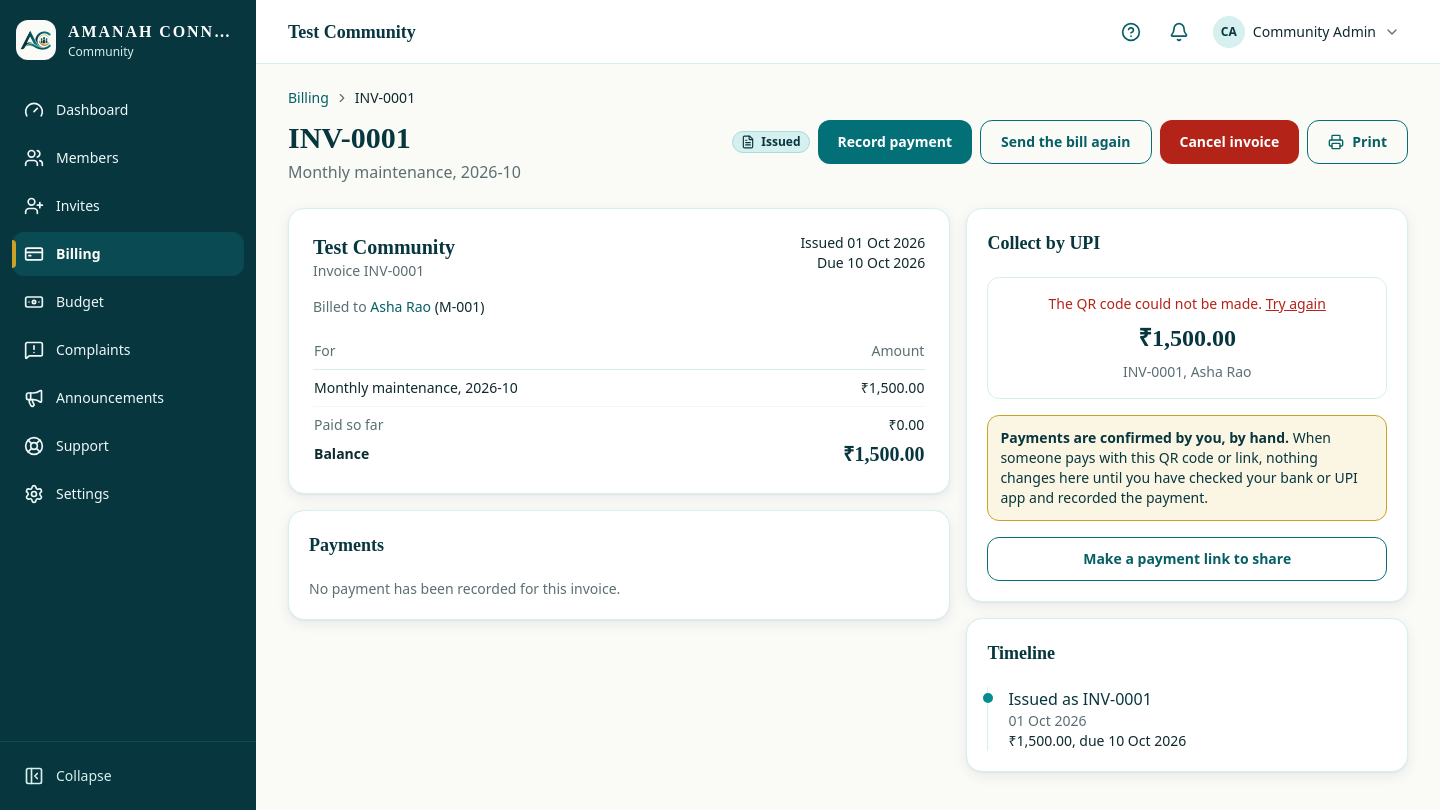
Test case: record payment › prefills the amount with the balance
The image size is (1440, 810).
Click the button "Record payment" at (895,142), box [818, 120, 972, 164]
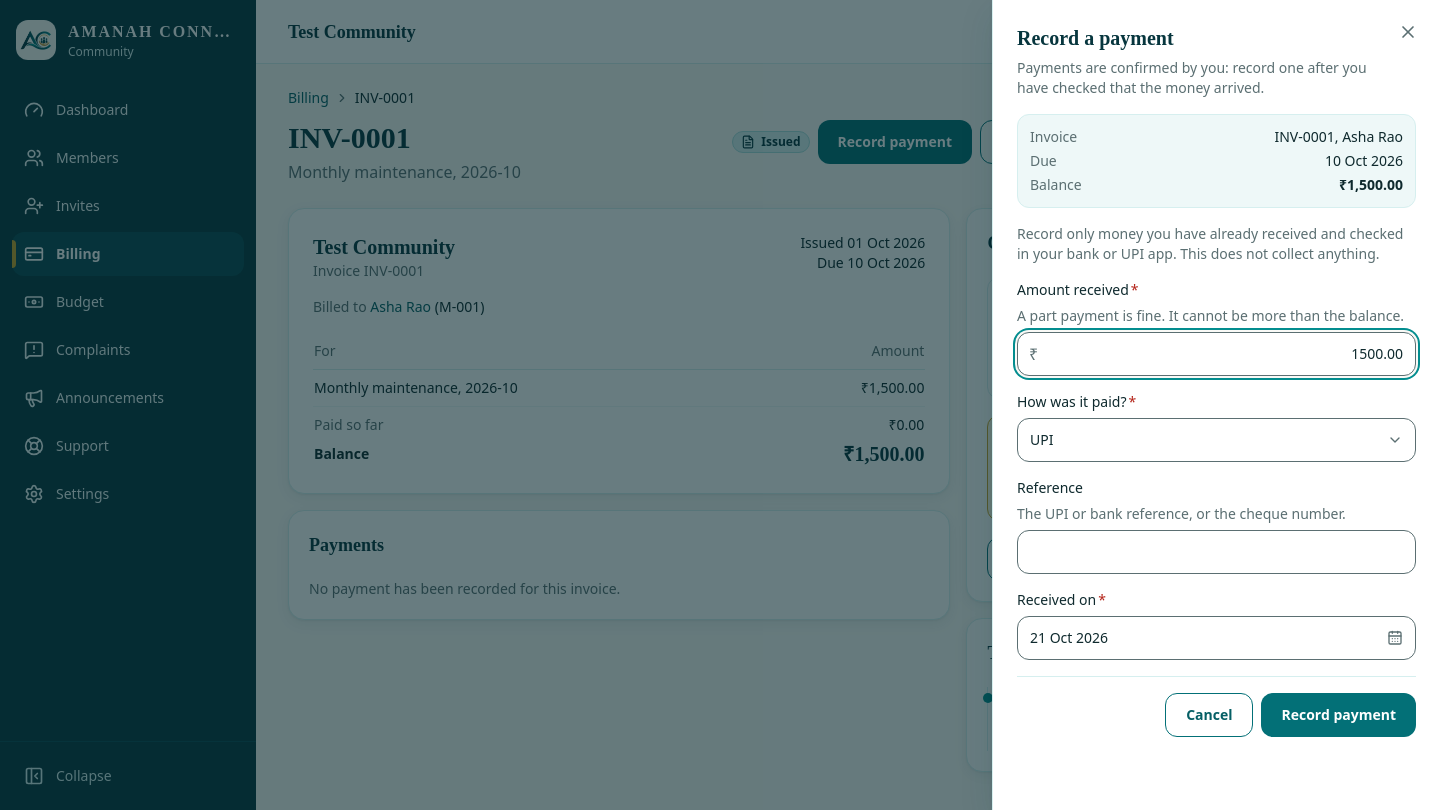
Expected: the field labelled "Amount received*" holds "1500.00", [1017, 332, 1416, 376]
